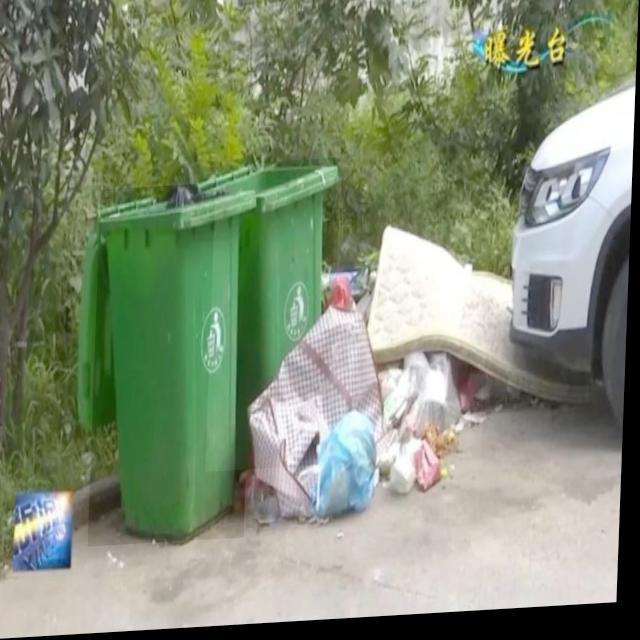garbage: (239, 223, 492, 534)
garbage_bin: (92, 184, 258, 548), (209, 162, 339, 475)
